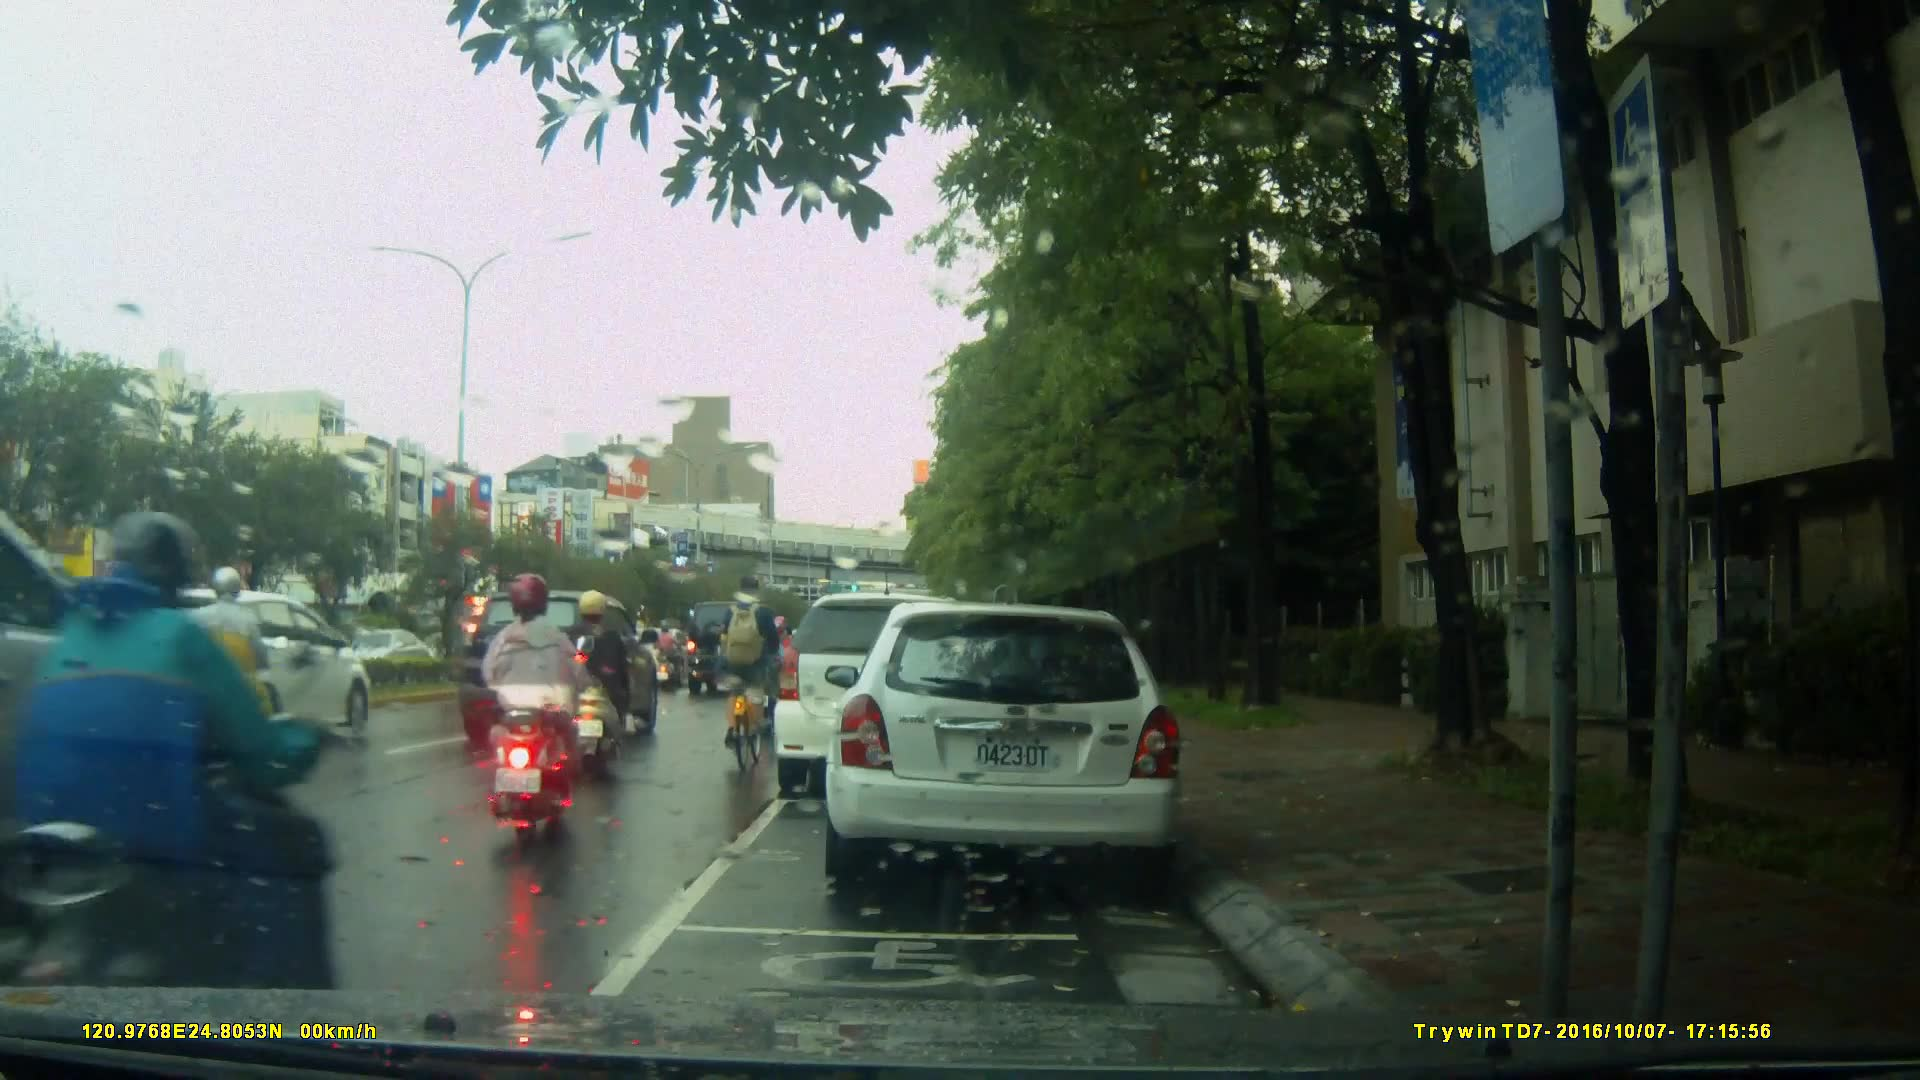rider: (5, 512, 326, 1078), (476, 572, 597, 838), (718, 577, 782, 776), (563, 588, 629, 772), (652, 617, 683, 694)
vehicle: (1, 492, 262, 988), (822, 604, 1188, 883), (774, 595, 995, 802), (449, 590, 662, 759)
